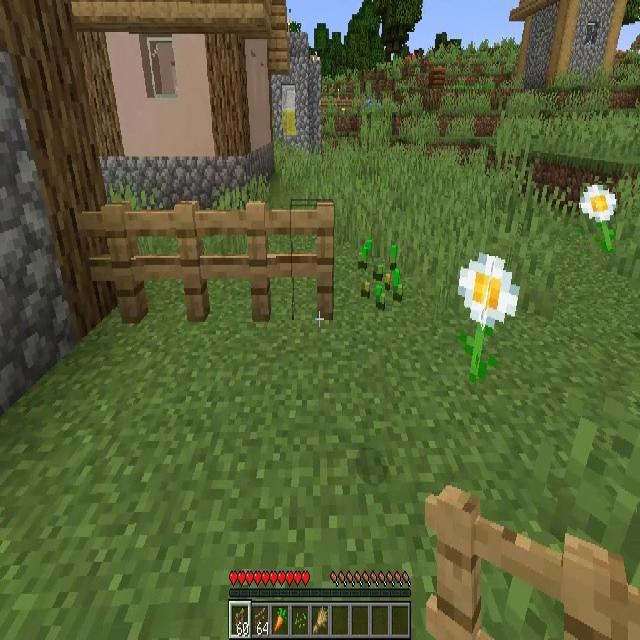flower: (460, 252, 520, 376), (580, 183, 616, 253)
